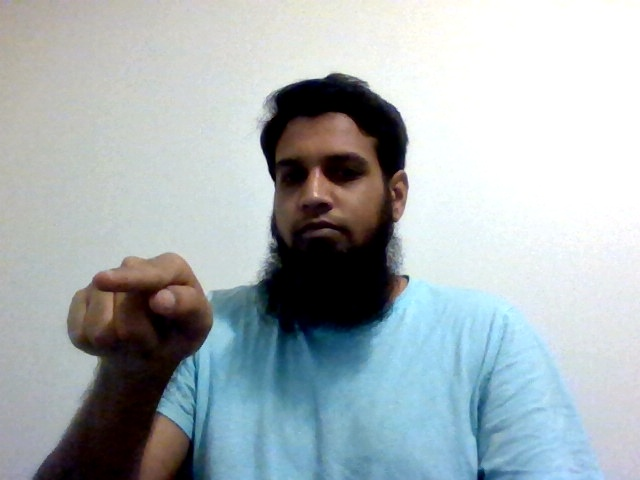you: (63, 250, 216, 369)
